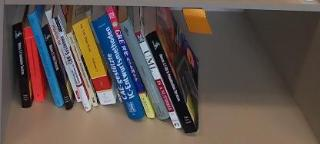book-spine: (90, 12, 145, 124), (105, 6, 155, 121), (145, 30, 198, 137), (118, 17, 170, 122), (135, 30, 183, 132), (71, 17, 116, 109), (51, 15, 92, 113), (27, 10, 65, 109), (45, 9, 82, 105), (41, 23, 74, 111), (66, 32, 99, 109), (23, 27, 45, 104), (12, 22, 31, 109)
